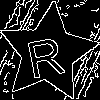R: (23, 28, 66, 79)
